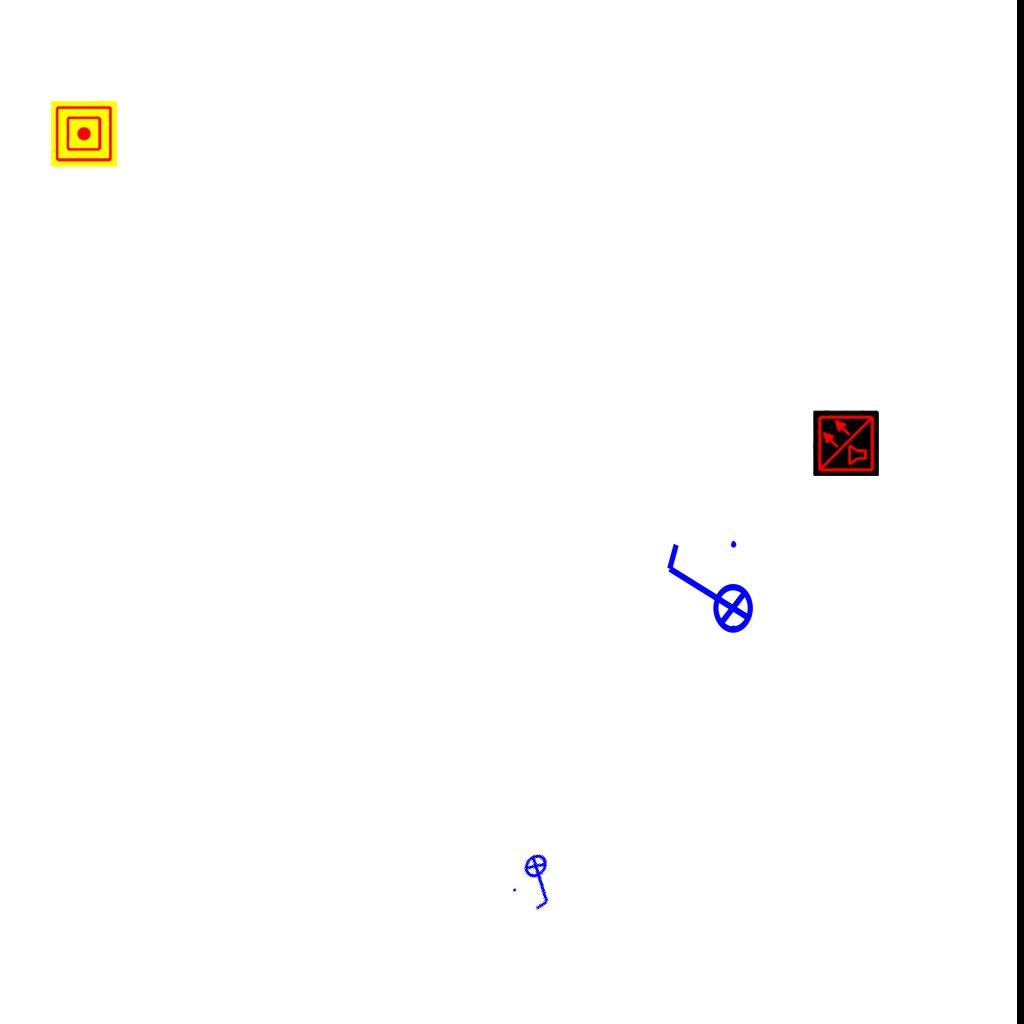Ausschalter_beleuchtet: (659, 535, 755, 647), (503, 844, 577, 918)
NAM-Nichtautomatischer_Melder: (51, 101, 117, 167)
OKW_Multisensormelder_(Kombination_optischer_Rauch-Kahlenmonoxid_Waerme-Melder): (813, 410, 879, 476)
